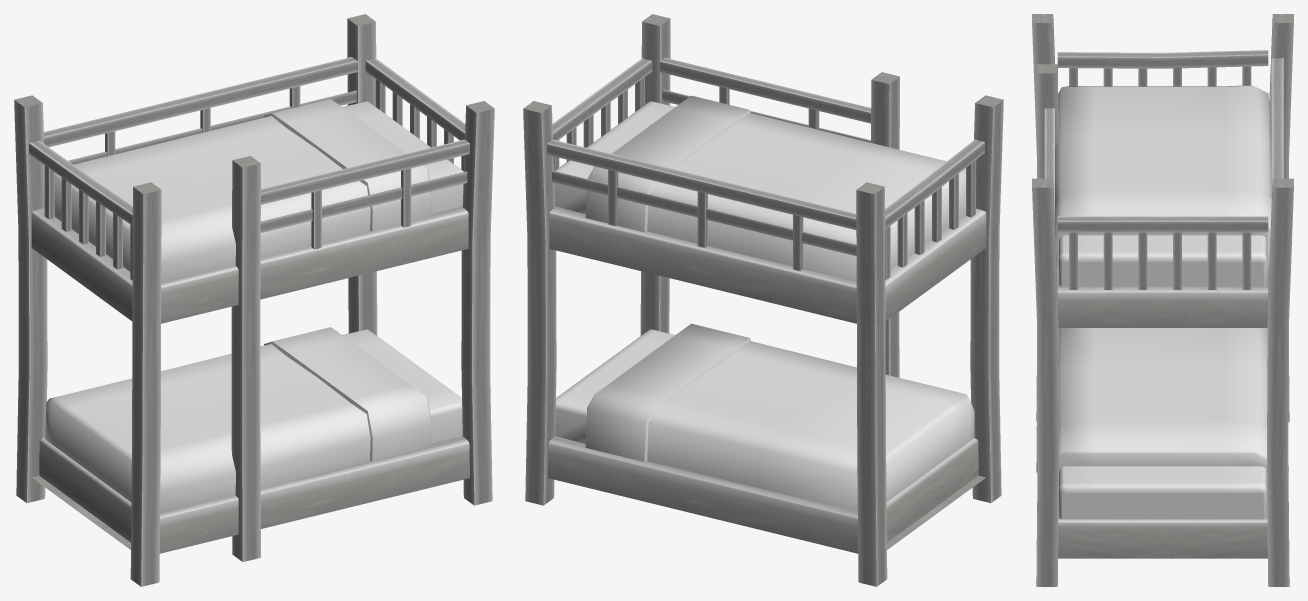
Rendered from bed_Hochbett.fbx.
The picture shows the model from 3 angles, left to right: view 1: azimuth 30°, elevation 25°; view 2: azimuth 150°, elevation 25°; view 3: azimuth 270°, elevation 25°; orthographic projection.
Visible parts, largest first — view 1: originalbed.002; view 2: originalbed.002; view 3: originalbed.002.
Boxes of the visible parts, <box> form: originalbed.002: <box>14,14,494,586</box>; originalbed.002: <box>523,14,1003,586</box>; originalbed.002: <box>1032,14,1293,586</box>.
Bounding box in the file's own units: 333 × 357 × 212.
